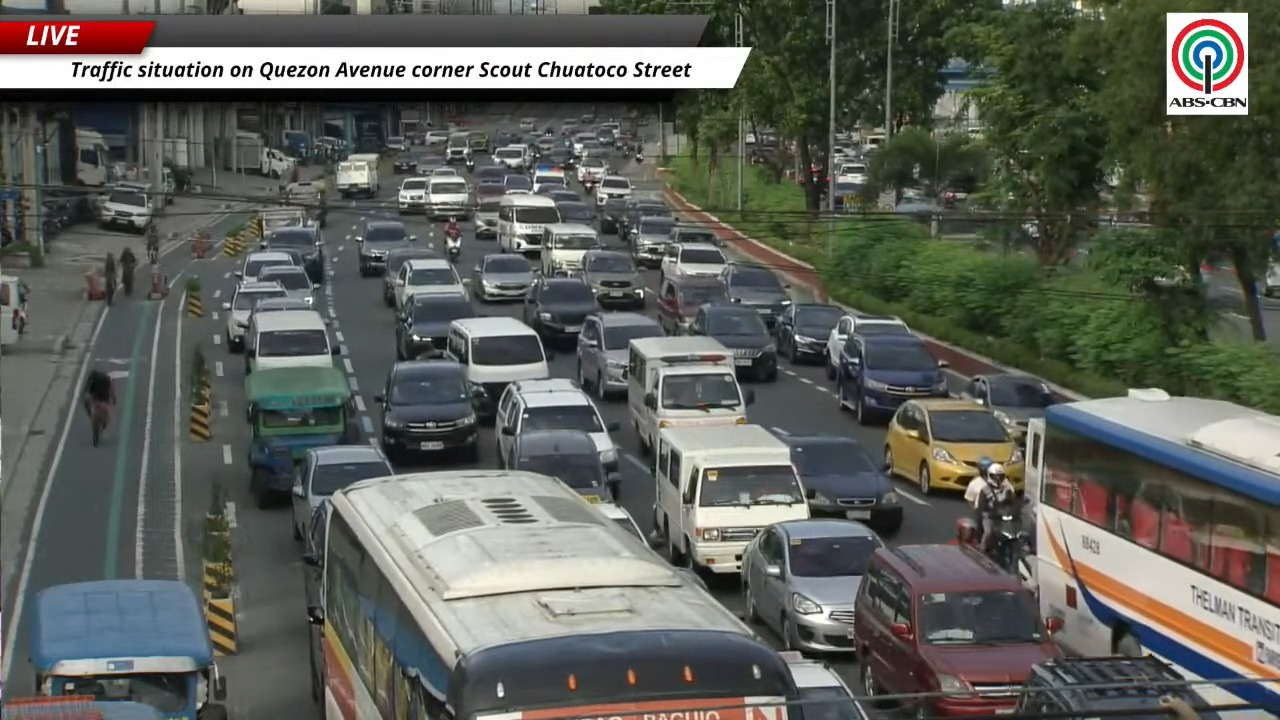bus: (307, 470, 800, 719), (1026, 389, 1279, 716)
car: (854, 544, 1061, 716), (741, 519, 882, 653), (884, 398, 1024, 493), (1012, 655, 1210, 719), (780, 434, 903, 535), (495, 378, 619, 471), (374, 359, 478, 461), (835, 335, 949, 424), (291, 444, 394, 540), (499, 429, 619, 503), (577, 312, 663, 398), (688, 302, 778, 381), (779, 650, 870, 719), (961, 373, 1056, 438), (826, 314, 912, 378), (395, 295, 476, 359), (521, 276, 598, 338), (721, 263, 792, 329), (222, 281, 286, 352), (774, 303, 843, 363), (656, 276, 727, 334), (241, 295, 313, 352), (394, 258, 468, 311), (582, 249, 645, 308), (262, 224, 323, 284), (382, 246, 440, 307), (354, 220, 416, 276), (472, 253, 535, 302), (303, 501, 330, 606), (618, 197, 674, 240), (660, 243, 727, 278), (628, 216, 673, 267), (597, 503, 650, 546), (258, 266, 314, 304), (235, 250, 297, 283), (250, 295, 312, 320), (550, 191, 595, 225), (397, 176, 428, 214), (670, 224, 723, 246), (576, 157, 611, 187), (596, 175, 632, 204), (598, 198, 626, 234), (493, 144, 528, 172), (473, 178, 505, 203), (543, 147, 575, 171), (576, 136, 610, 158), (472, 165, 511, 184), (393, 151, 421, 173), (572, 130, 595, 156), (1262, 263, 1279, 297), (504, 173, 531, 193), (547, 189, 581, 204), (468, 132, 490, 153), (384, 136, 409, 153), (424, 131, 449, 146), (596, 128, 616, 146), (428, 165, 459, 176), (519, 116, 536, 131), (561, 118, 579, 132)
motorcycle: (989, 506, 1031, 576), (444, 220, 461, 262), (121, 263, 134, 295), (582, 178, 596, 193), (465, 157, 476, 172), (634, 153, 643, 163)
truck: (28, 579, 227, 719), (3, 695, 166, 719), (229, 131, 296, 177), (75, 127, 111, 186), (334, 154, 380, 199), (283, 180, 326, 227), (258, 207, 309, 246), (229, 131, 265, 172), (259, 148, 297, 178), (281, 129, 313, 164), (162, 138, 190, 168)
